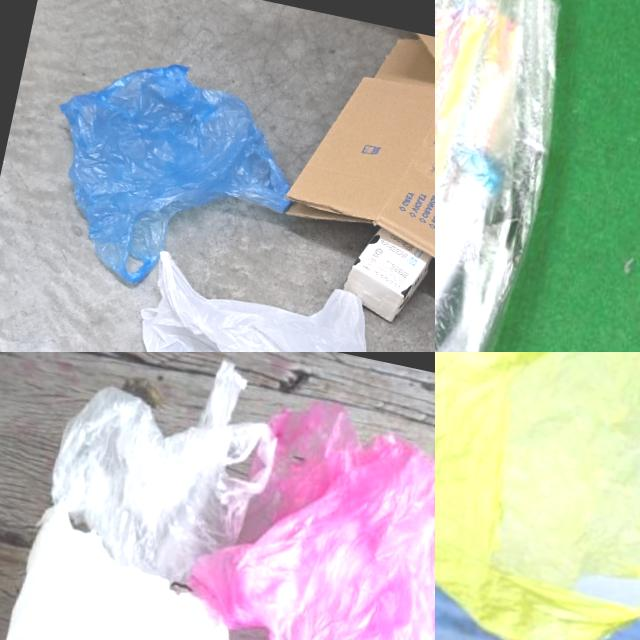caixinha: (333, 224, 435, 329)
papelão: (273, 13, 435, 286)
sacola plástica: (22, 41, 314, 312), (9, 352, 287, 575), (435, 0, 604, 352), (435, 352, 640, 640), (204, 388, 435, 640), (108, 249, 386, 352), (0, 532, 247, 640)
